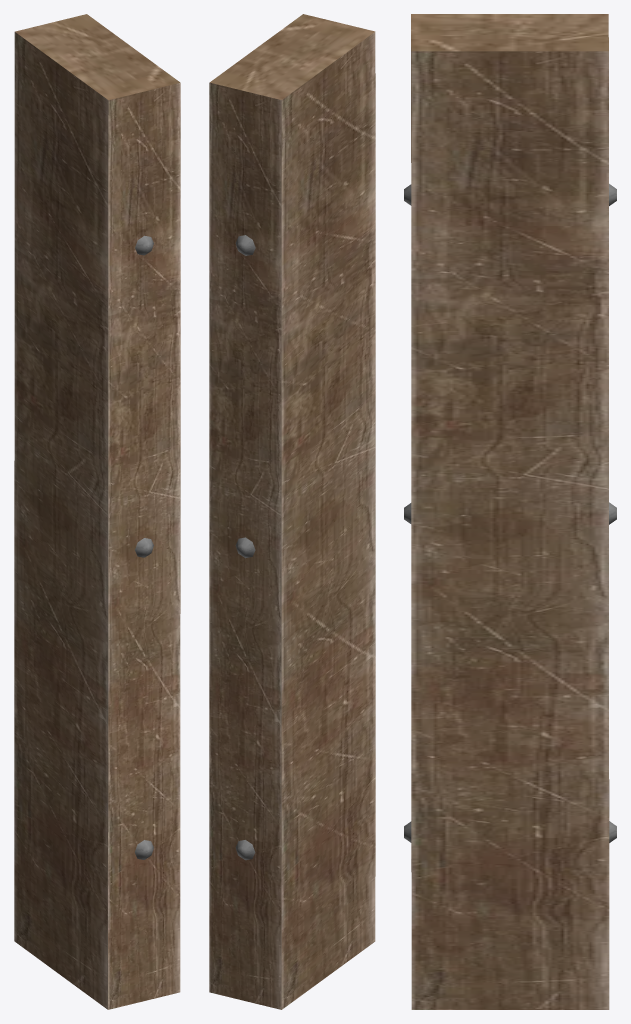
The picture shows the model from 3 angles, left to right: view 1: azimuth 30°, elevation 25°; view 2: azimuth 150°, elevation 25°; view 3: azimuth 270°, elevation 25°; orthographic projection. The views are drawn at different scales.
Parts seen in each view (by area): view 1: SM_BB_T3_Beam_Thin_Large_Vertical_LOD0; view 2: SM_BB_T3_Beam_Thin_Large_Vertical_LOD0; view 3: SM_BB_T3_Beam_Thin_Large_Vertical_LOD0.
Part boxes in pixels (bbox=[...]): SM_BB_T3_Beam_Thin_Large_Vertical_LOD0: bbox=[14, 14, 180, 1009]; SM_BB_T3_Beam_Thin_Large_Vertical_LOD0: bbox=[209, 14, 375, 1009]; SM_BB_T3_Beam_Thin_Large_Vertical_LOD0: bbox=[404, 14, 616, 1009].
Size of the model in its own units: 0.2508 by 3.01 by 0.6056.
1 material, 1 textured.
